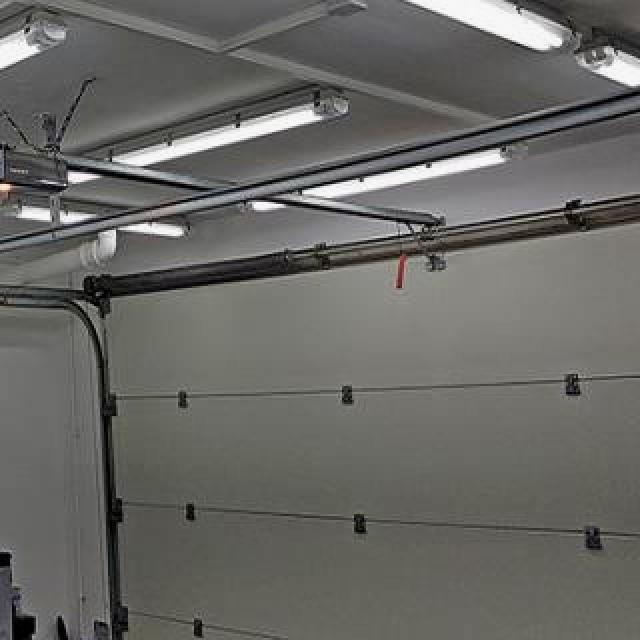fluorescent tube: (11, 84, 362, 198), (200, 0, 598, 78), (0, 0, 72, 170), (570, 0, 640, 124)
